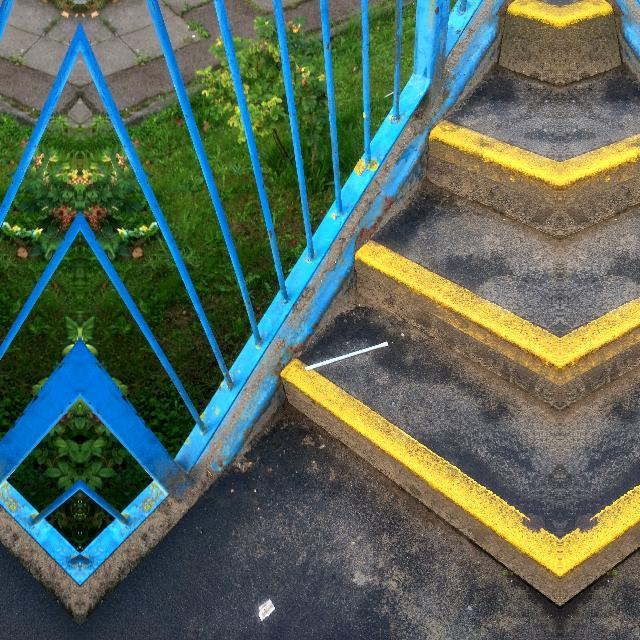Plastic: (300, 334, 388, 374), (253, 596, 280, 622)
